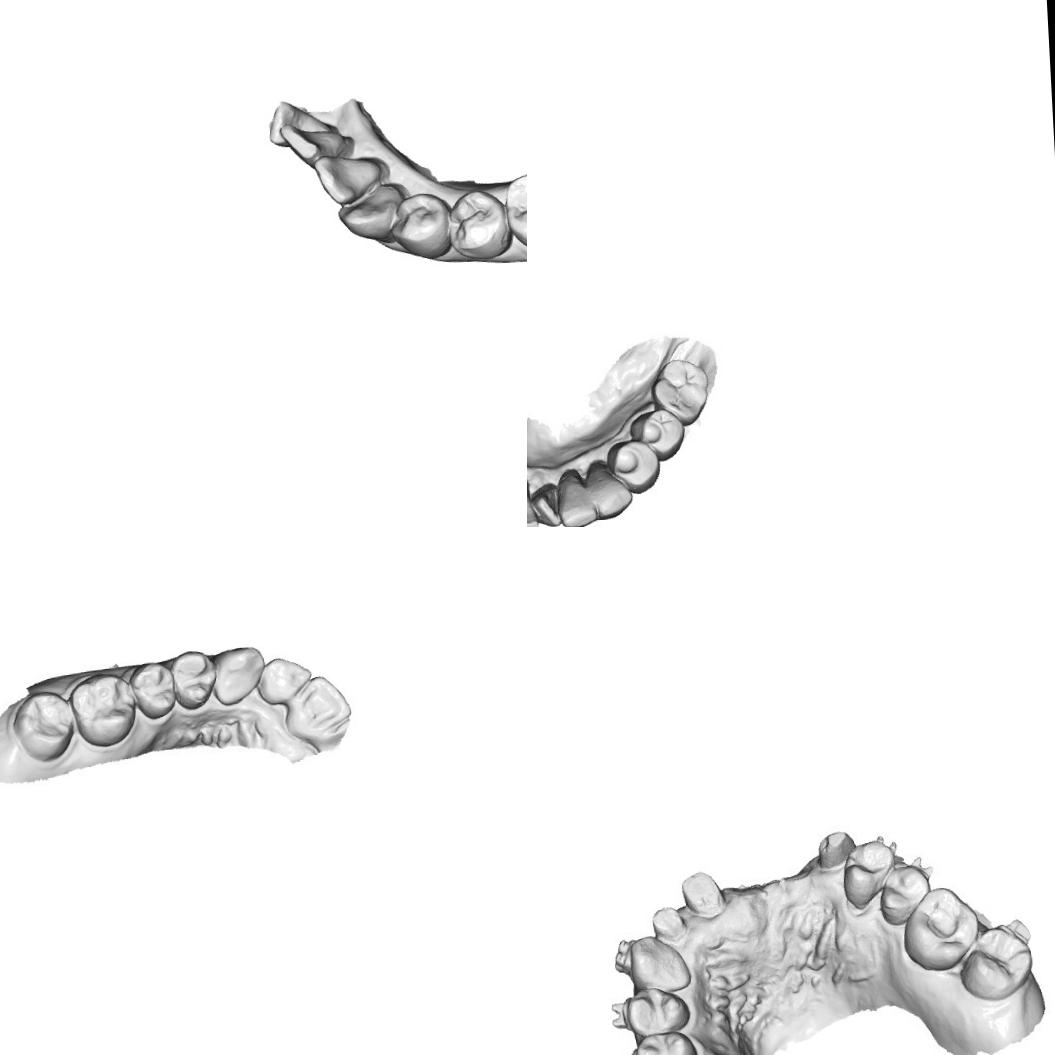canine: (334, 181, 403, 248), (211, 640, 265, 706), (585, 457, 636, 523)
crown: (682, 868, 726, 921), (649, 904, 689, 939), (817, 828, 857, 860)
incisor: (278, 672, 352, 737), (310, 152, 383, 206), (265, 95, 336, 148), (276, 119, 344, 168), (629, 938, 685, 988), (258, 657, 309, 706), (559, 471, 594, 522), (530, 480, 562, 526), (527, 474, 538, 527)
molar: (966, 922, 1032, 996), (910, 886, 975, 960), (70, 674, 134, 748), (13, 690, 76, 759), (654, 360, 710, 426), (500, 160, 527, 255)
premolar: (441, 185, 508, 264), (386, 188, 453, 262), (840, 831, 899, 907), (876, 856, 934, 925), (625, 408, 689, 462), (626, 985, 685, 1039), (607, 438, 659, 492), (130, 662, 177, 720), (172, 650, 216, 709), (636, 1030, 697, 1055)
